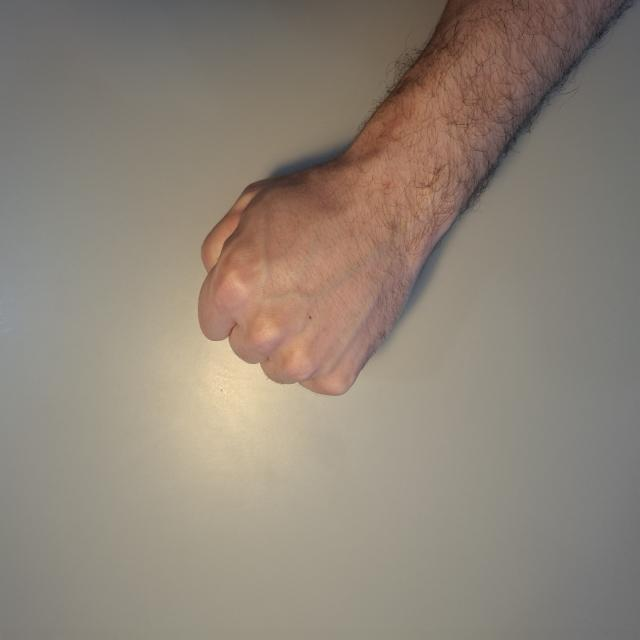glove_off: (194, 139, 423, 399)
